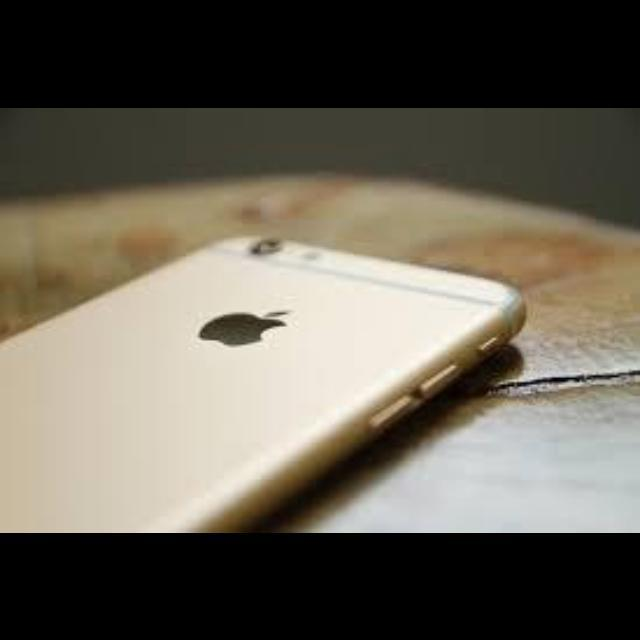phone: (0, 184, 572, 534)
